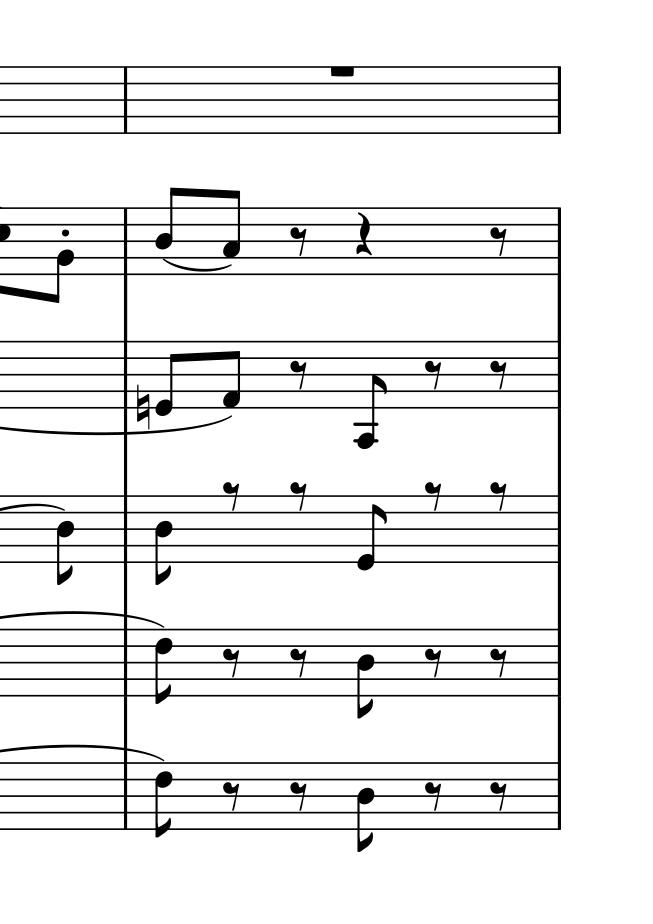8_-4: (354, 340, 388, 449)
8_0: (355, 494, 389, 572), (155, 340, 185, 417)
8_1: (222, 339, 244, 410)
8_2: (47, 206, 76, 308)
8_3: (221, 188, 242, 277)
8_4: (155, 185, 183, 278), (152, 493, 175, 584), (355, 628, 376, 719), (355, 761, 375, 855), (54, 492, 73, 587)
8_6: (152, 628, 174, 707), (153, 761, 173, 839)
Natural: (134, 384, 151, 431)
Rests4: (355, 212, 373, 258)
Rests8: (287, 476, 308, 514), (221, 479, 243, 514), (288, 357, 309, 393), (287, 226, 311, 257), (423, 781, 444, 816), (220, 644, 240, 680), (422, 646, 443, 679), (289, 645, 309, 678), (489, 645, 509, 678), (487, 777, 507, 810), (288, 779, 309, 810), (489, 226, 509, 258), (488, 358, 509, 388), (489, 480, 508, 513), (423, 360, 445, 388), (423, 480, 442, 512), (223, 781, 242, 813), (326, 63, 356, 80)
Single_barline: (548, 760, 567, 828), (550, 340, 567, 410), (117, 495, 134, 562), (117, 207, 134, 273), (550, 630, 567, 696), (550, 496, 567, 562), (118, 759, 133, 833), (550, 68, 567, 131), (551, 209, 567, 272), (117, 67, 133, 129), (117, 341, 132, 406)
Slur: (160, 257, 233, 271)
